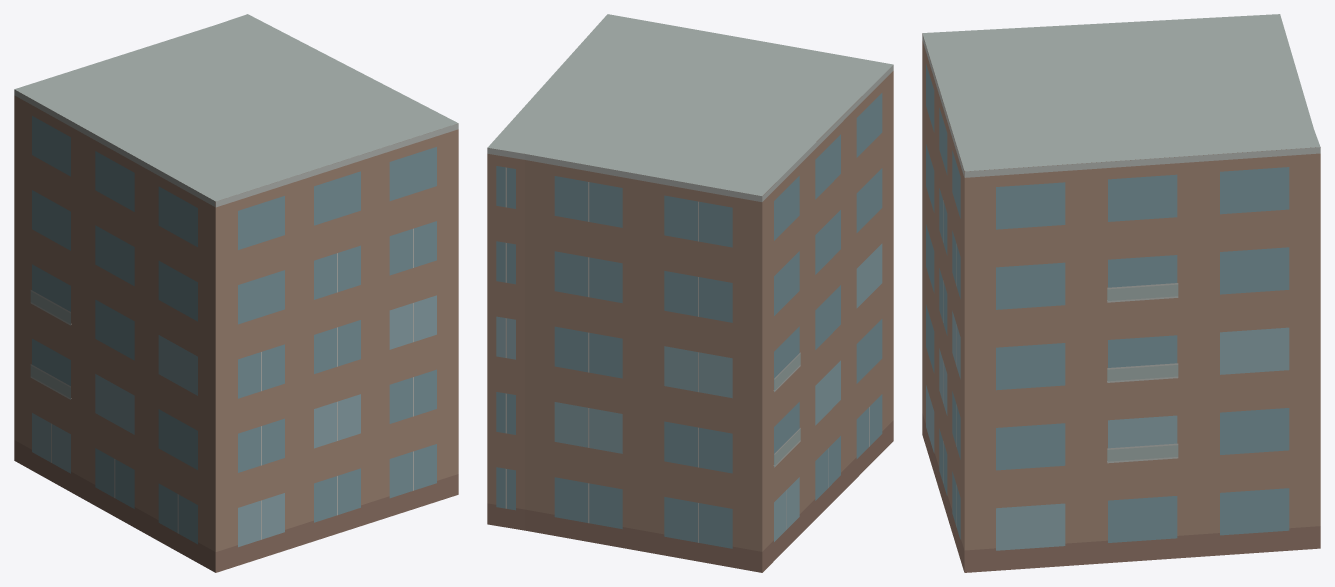
Rendered from survey-upis-33046675.glb.
3 renders of one model, left to right at view 1: azimuth 30°, elevation 25°; view 2: azimuth 150°, elevation 25°; view 3: azimuth 270°, elevation 25°, orthographic. The views are drawn at different scales.
Visible parts, largest first — view 1: survey-upis-33046675.tmp; view 2: survey-upis-33046675.tmp; view 3: survey-upis-33046675.tmp.
Boxes of the visible parts, bbox=[...] form: survey-upis-33046675.tmp: bbox=[14, 14, 458, 572]; survey-upis-33046675.tmp: bbox=[487, 14, 893, 572]; survey-upis-33046675.tmp: bbox=[922, 14, 1320, 572].
Size of the model in its own units: 12.84 by 15.25 by 13.72.
